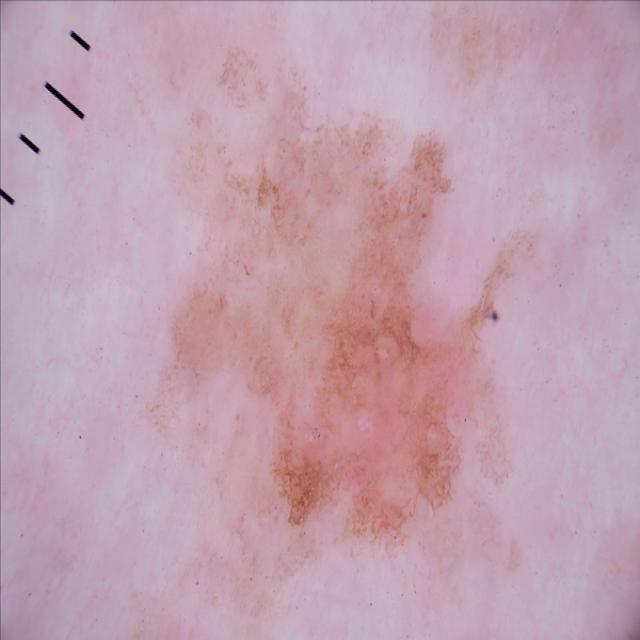Skin-Cancer Pigmented benign keratosis: (44, 32, 563, 550)
